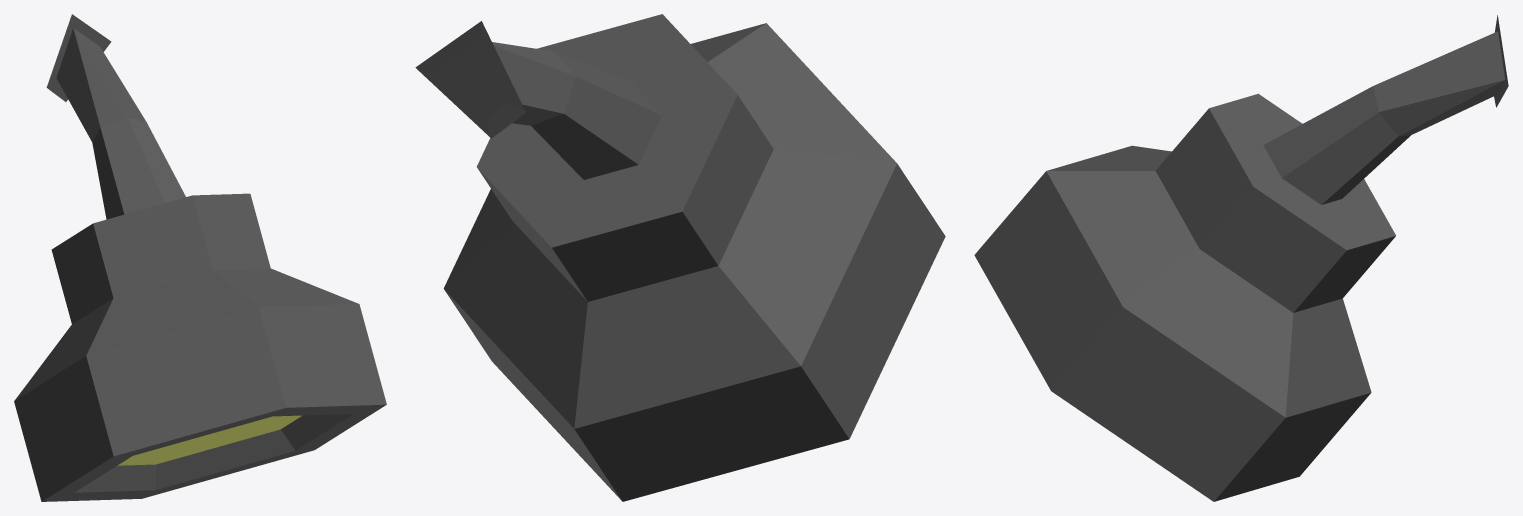
The model's file is SpotLight.fbx.
3 renders of one model, left to right at view 1: azimuth 30°, elevation 25°; view 2: azimuth 150°, elevation 25°; view 3: azimuth 270°, elevation 25°, orthographic. The views are drawn at different scales.
Parts seen in each view (by area): view 1: SpotLight; view 2: SpotLight; view 3: SpotLight.
Part boxes in pixels (<box>): SpotLight: <box>14,14,386,501</box>; SpotLight: <box>415,14,945,501</box>; SpotLight: <box>974,15,1508,501</box>.
Size of the model in its own units: 17.51 by 25.45 by 26.09.
